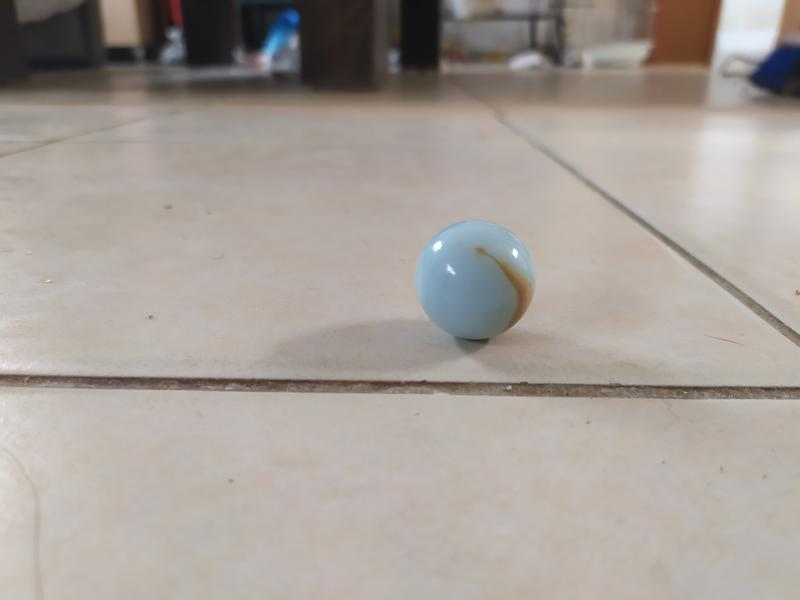Warning: (411, 215, 545, 346)
